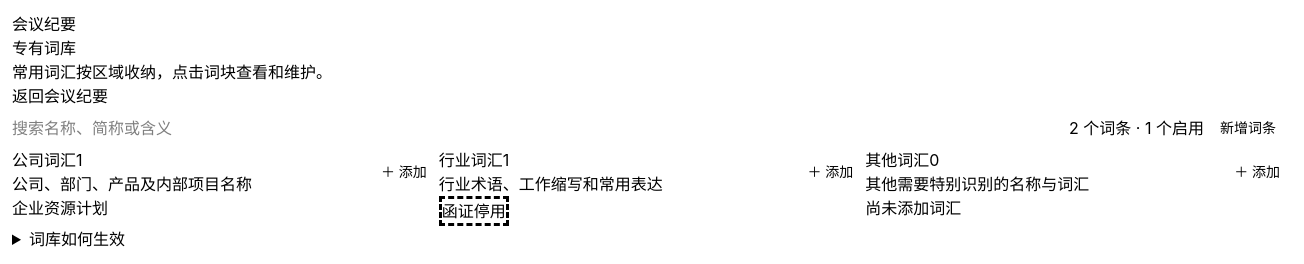
Test case: 按区域呈现词块，可按名称简称含义搜索
Expected: the element named "公司词汇词块" reads "企业资源计划", [12,196,108,220]
Expected: the element named "行业词汇词块" shows "函证", [439,196,509,226]
In the search field: (222, 128) [12,116,432,140], type "erp"
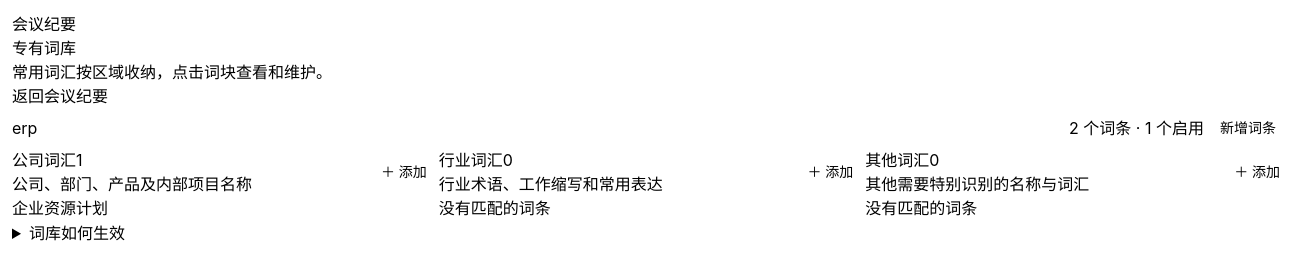
Expected: the text "企业资源计划" is shown, [12,196,108,220]
Expected: the button "函证" is gone
Replace the text in the search field with "获取外部": (222, 128) [12,116,432,140]
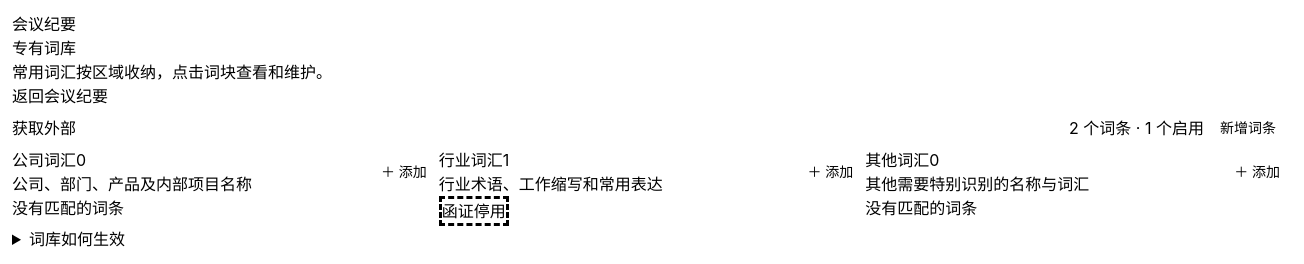
Expected: the text "函证" is shown, [442,199,474,223]
Expected: the button "企业资源计划" is gone
